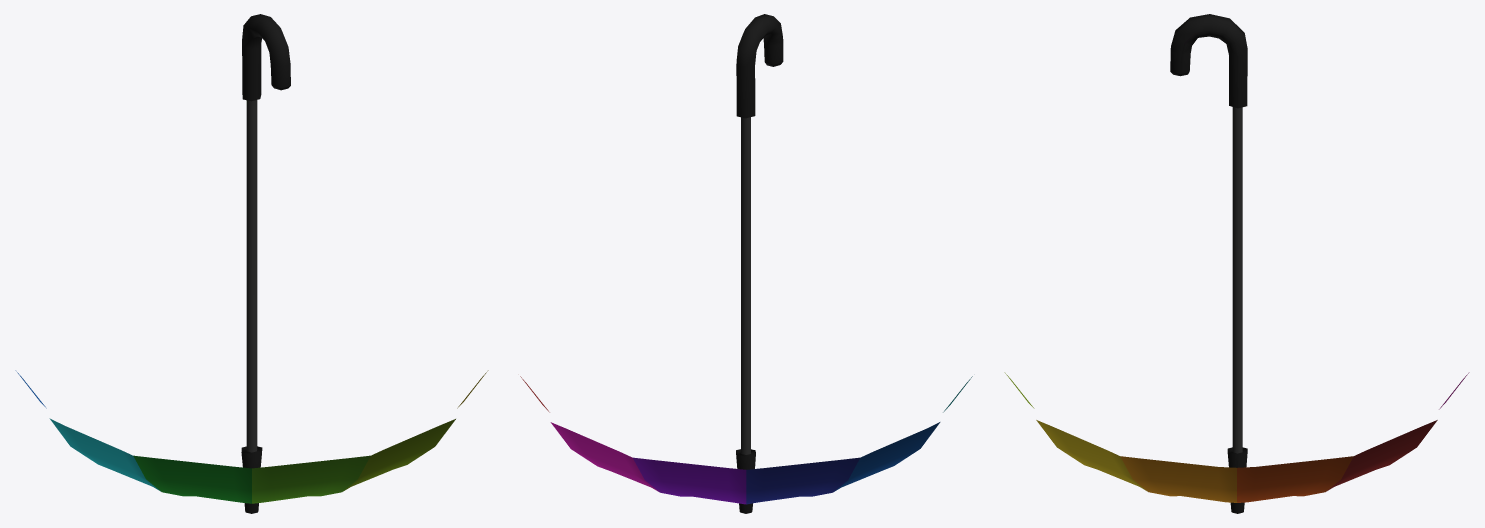
The model's file is UmbrellaRainbow0.glb.
The picture shows the model from 3 angles, left to right: view 1: azimuth 30°, elevation 25°; view 2: azimuth 150°, elevation 25°; view 3: azimuth 270°, elevation 25°; orthographic projection. The views are drawn at different scales.
Parts seen in each view (by area): view 1: Pole__mUmbrella; view 2: Pole__mUmbrella; view 3: Pole__mUmbrella.
Part boxes in pixels (x1,y1,x2,y2): Pole__mUmbrella: [15, 14, 488, 513]; Pole__mUmbrella: [520, 14, 972, 513]; Pole__mUmbrella: [1004, 14, 1469, 513].
Bounding box in the file's own units: 14.29 × 16.94 × 14.51.
Materials: 1 (1 with a texture image).
